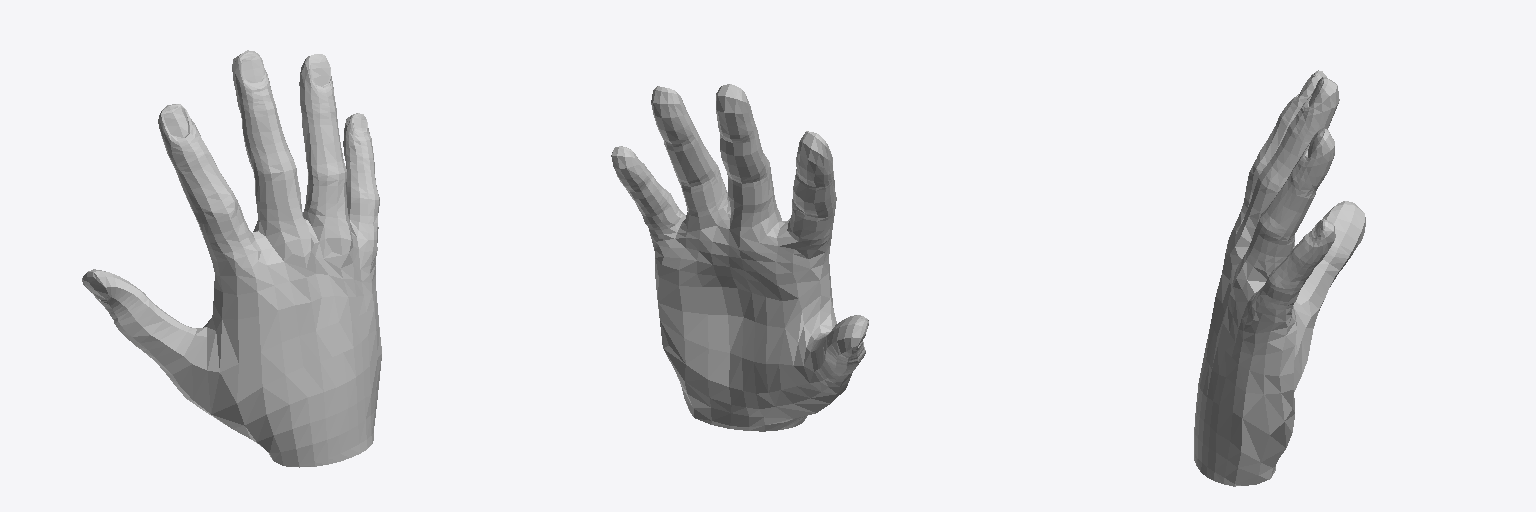
File: static_half_hand.obj
The picture shows the model from 3 angles: view 1: azimuth 30°, elevation 25°; view 2: azimuth 150°, elevation 25°; view 3: azimuth 270°, elevation 25°; orthographic projection.
Visible parts, largest first — view 1: HandMesh; view 2: HandMesh; view 3: HandMesh.
Part boxes in pixels (bbox=[...]): HandMesh: bbox=[82, 50, 381, 467]; HandMesh: bbox=[611, 84, 868, 431]; HandMesh: bbox=[1194, 70, 1365, 486].
Bounding box in the file's own units: 0.3415 × 0.4512 × 0.1902.